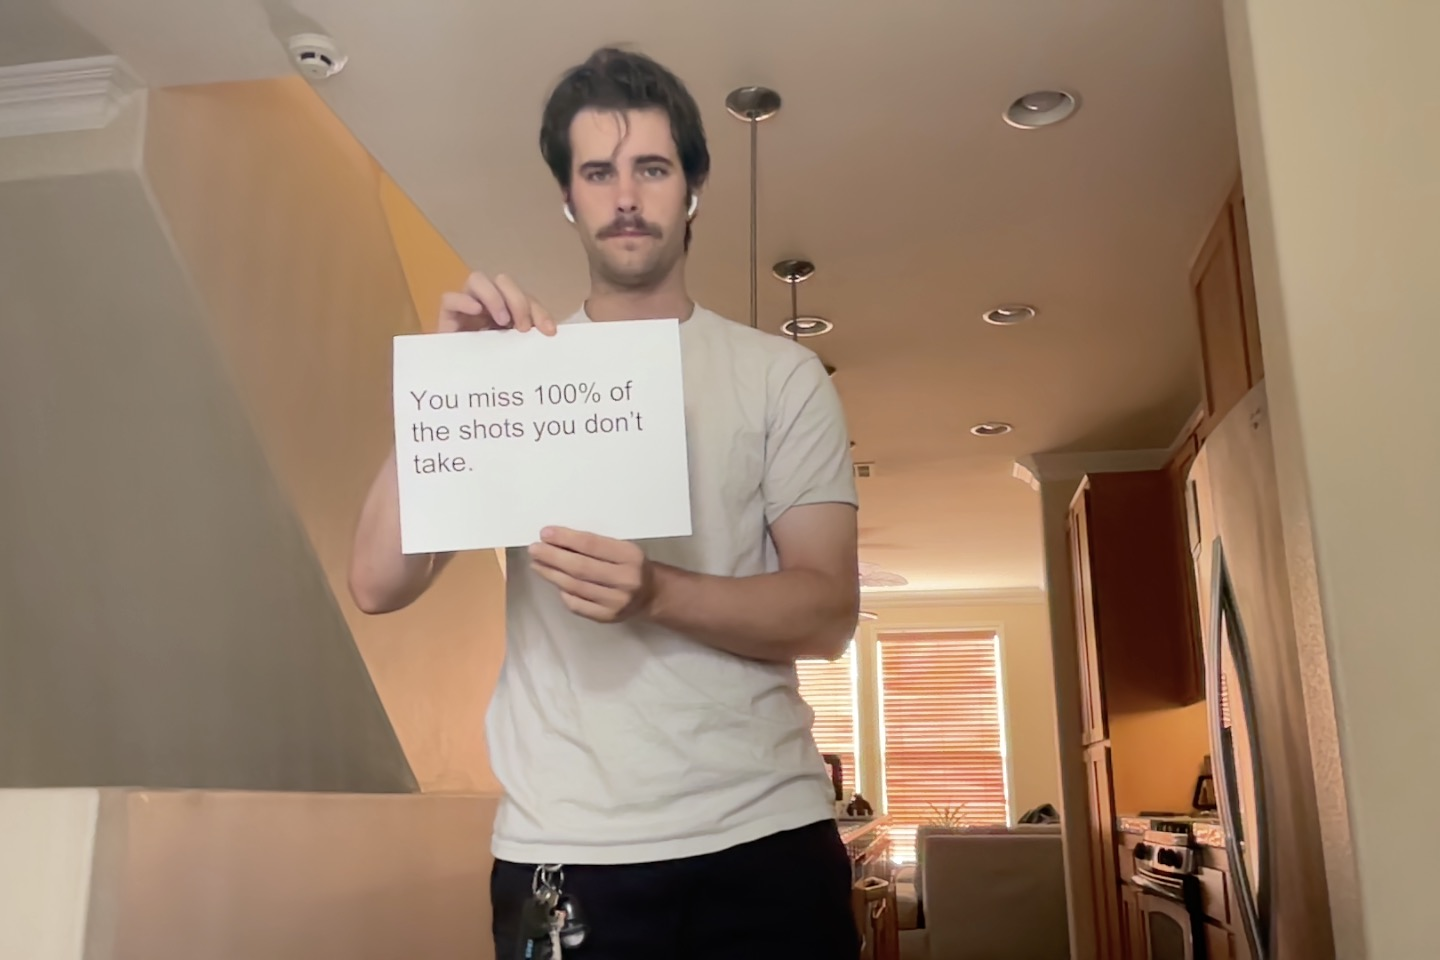phrase: (407, 377, 647, 477)
